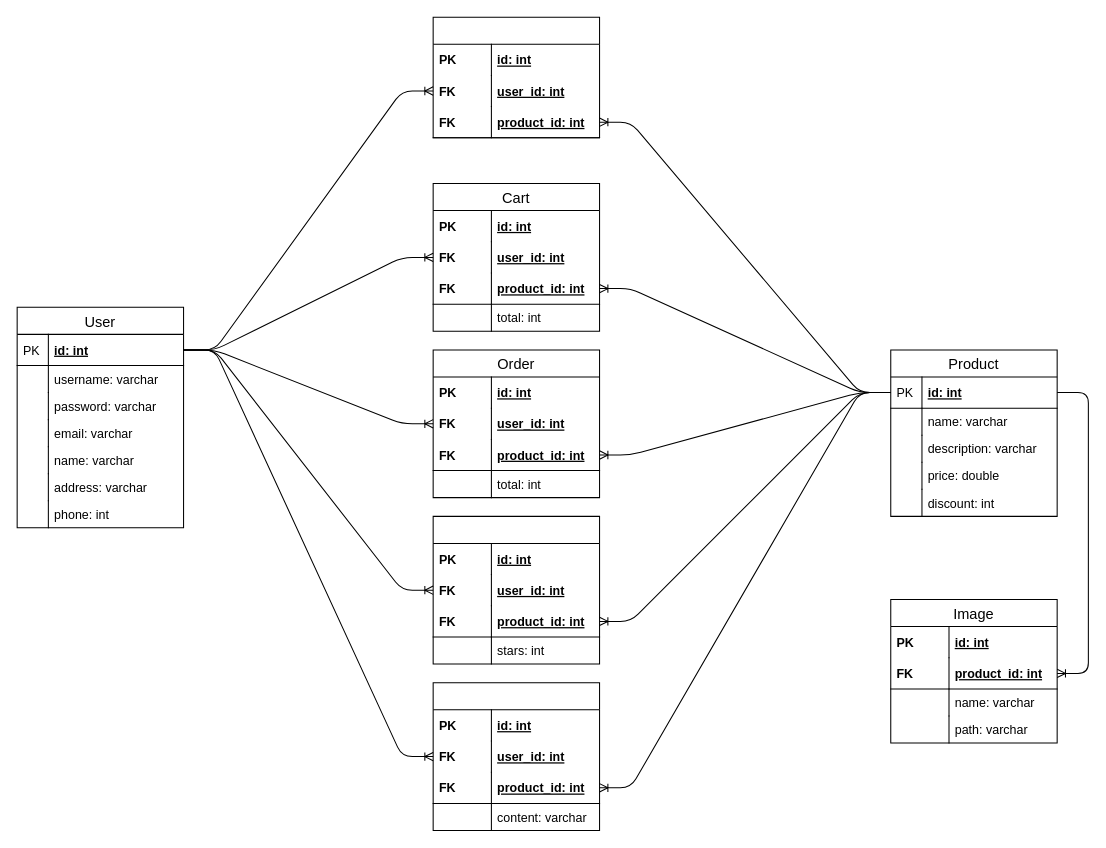
The diagram is 1106 pixels wide and 848 high, and some of its shapes have lost their labels. The shapes that lost their labels are listed below. From the top down, each one's box as (x1, y1, x2, y2) in pixels, then its label:
(432, 16, 600, 138): Wishlist
(432, 515, 600, 664): Review
(432, 682, 600, 830): Comment
